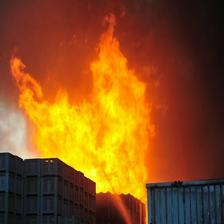fire: (14, 36, 154, 199)
